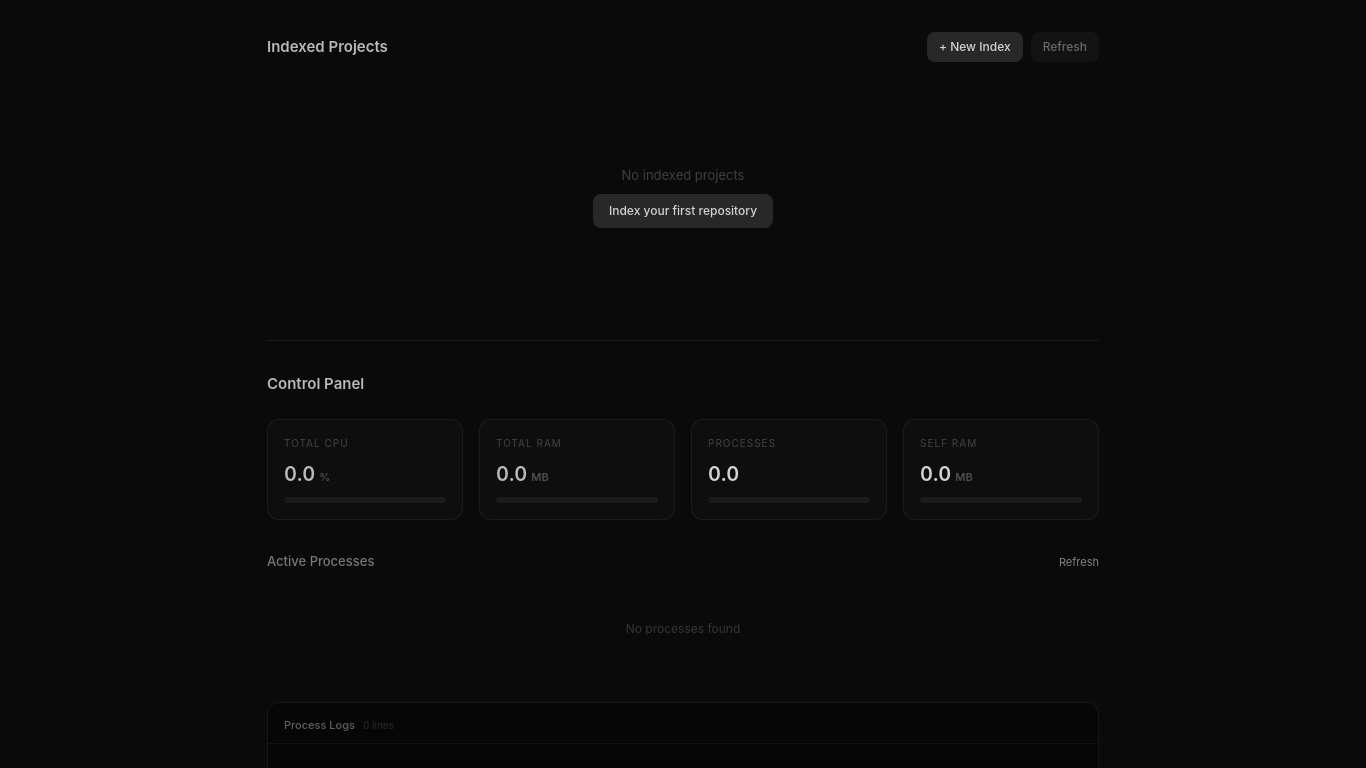
Test: Dashboard create-index modal › filters picker rows and exposes quick row indexing
The image size is (1366, 768).
Click the button "Index your first repository" at (683, 210), box [593,194,773,228]
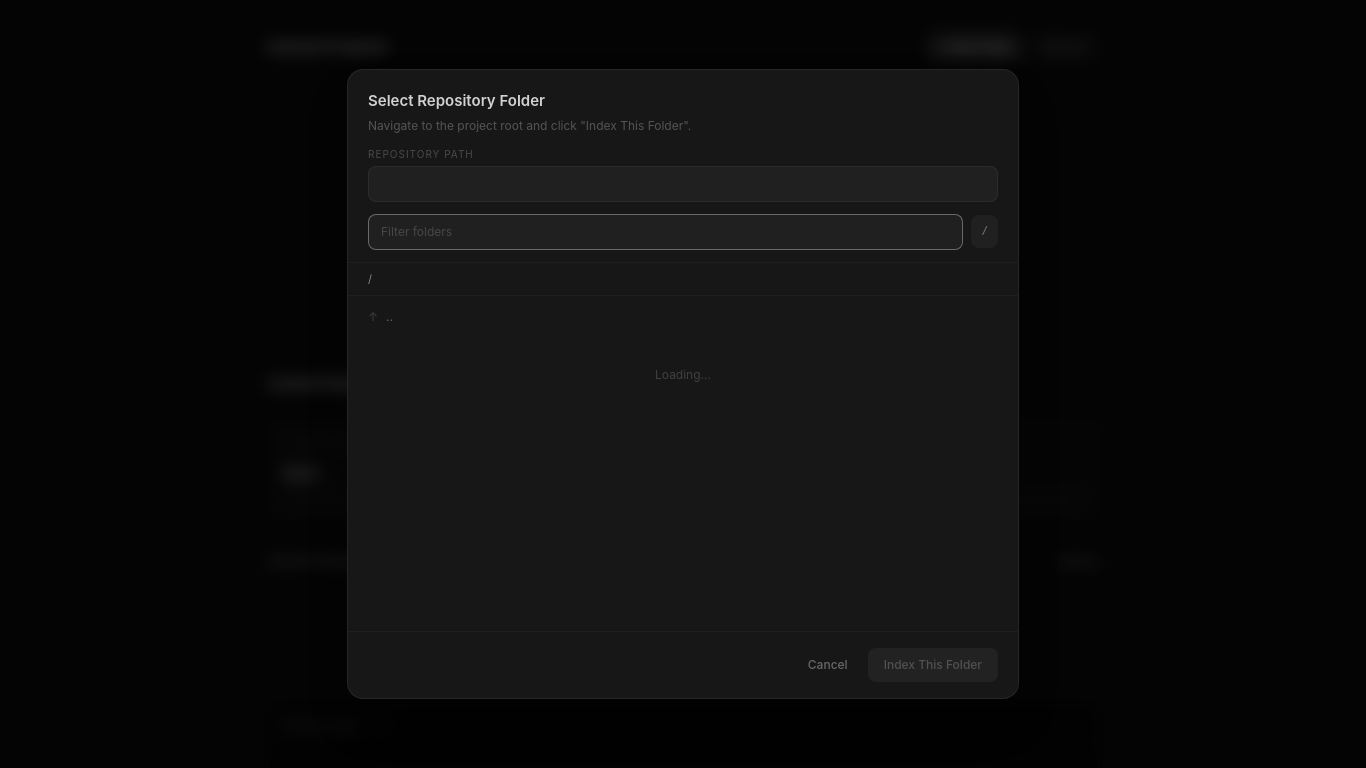
Type "bet" into the field with placeholder "Filter folders" at (666, 232), box [368,214,963,250]
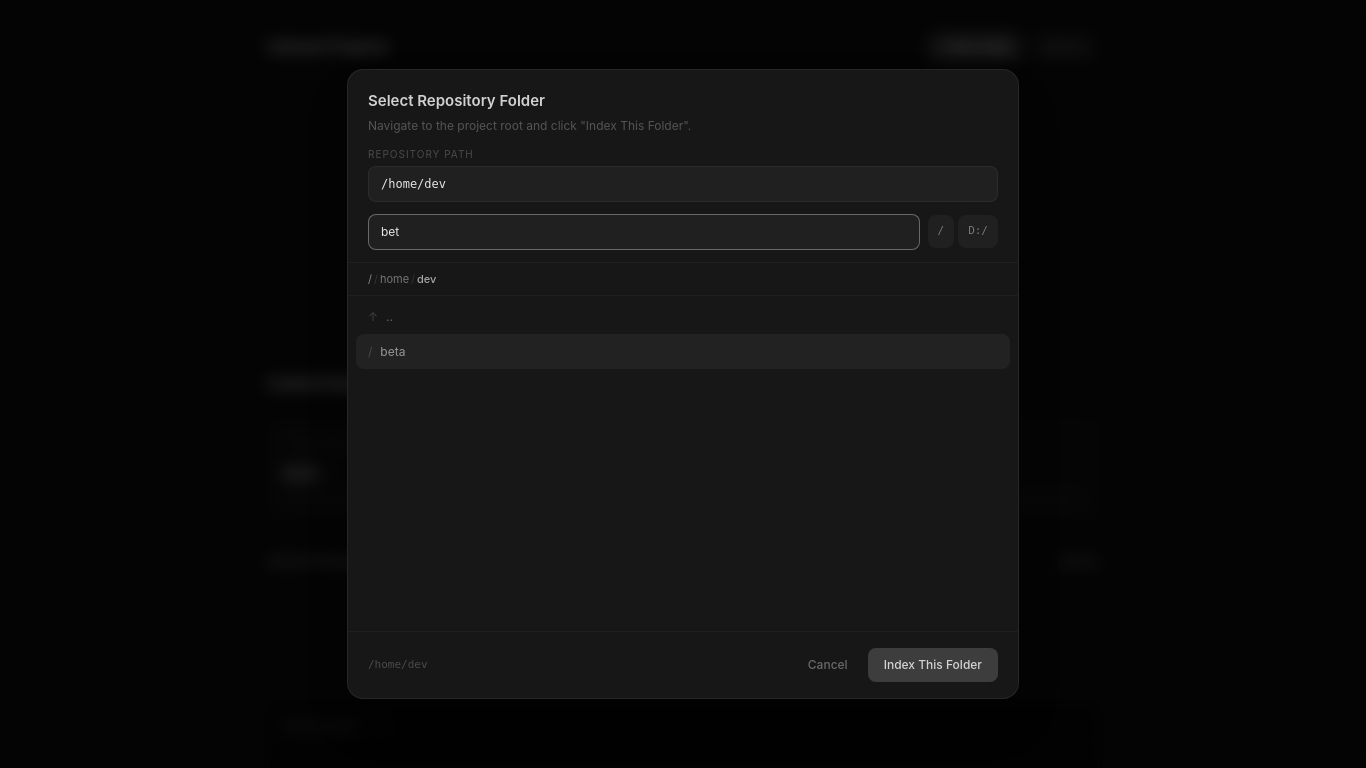
Check: the text "beta" is shown, box [380,343,405,361]
Check: the button named "Browse D:/" is shown, box [958,215,998,248]
